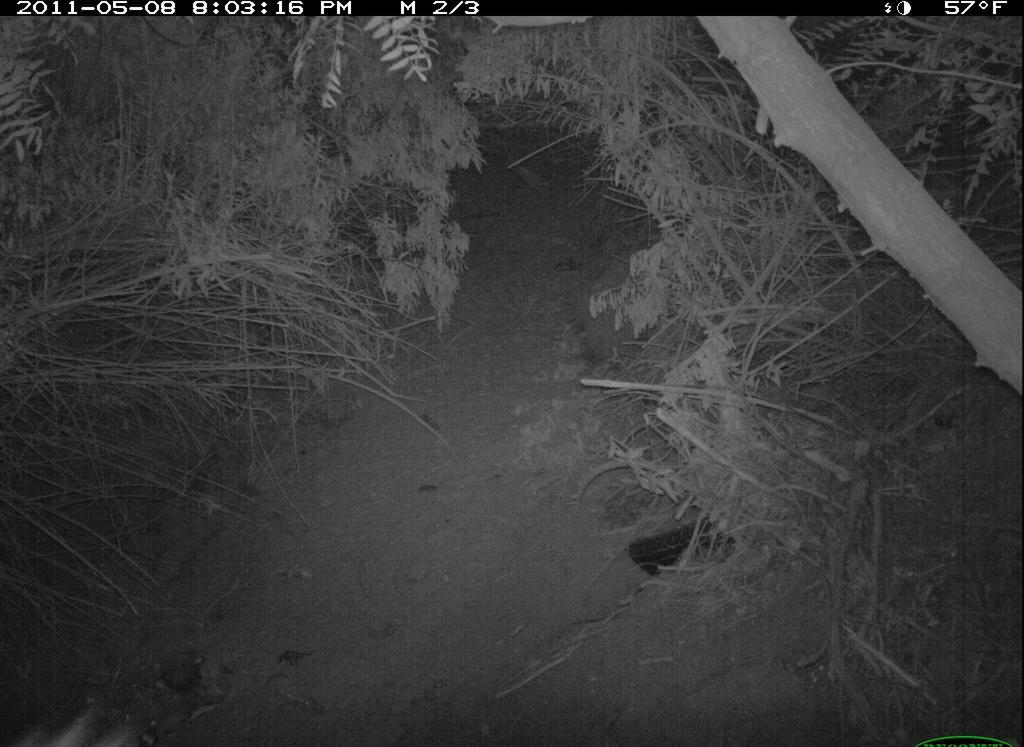bird: (626, 527, 731, 583)
